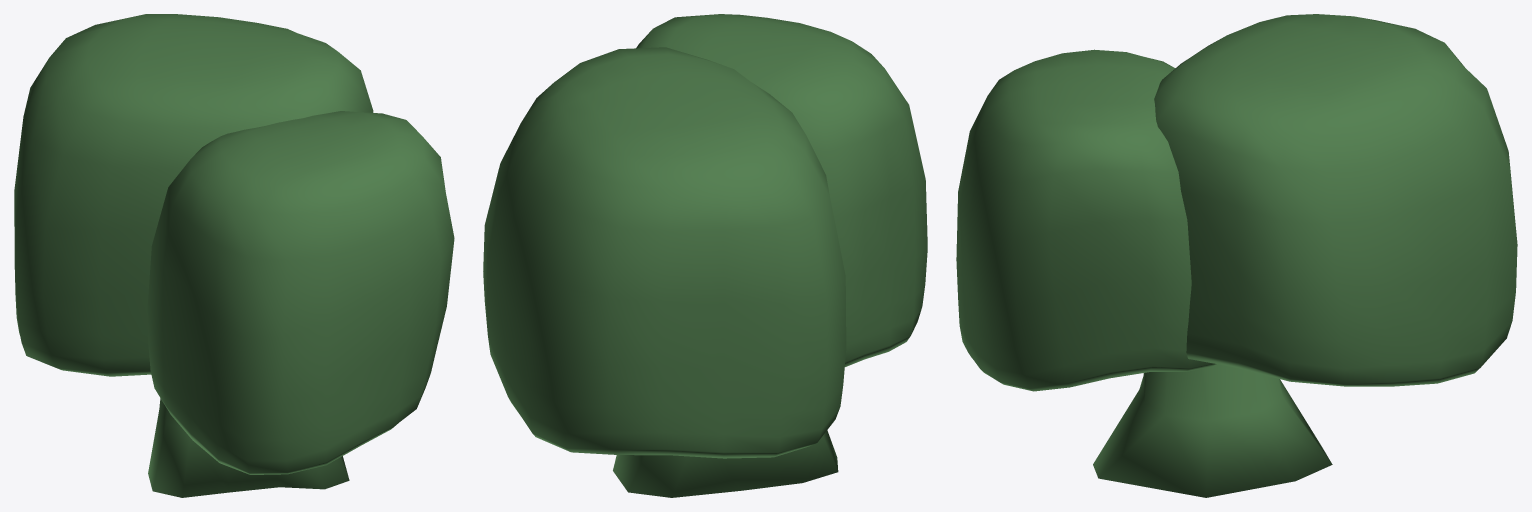
The model's file is bush1.glb.
3 views of the same model, side by side, from view 1: azimuth 30°, elevation 25°; view 2: azimuth 150°, elevation 25°; view 3: azimuth 270°, elevation 25° (orthographic). The views are drawn at different scales.
Visible parts, largest first — view 1: bush1; view 2: bush1; view 3: bush1.
Boxes of the visible parts, x1,y1,x2,y2 form: bush1: (14, 14, 454, 497); bush1: (483, 14, 927, 497); bush1: (956, 14, 1517, 497).
Size of the model in its own units: 0.838 by 0.9 by 1.15.
